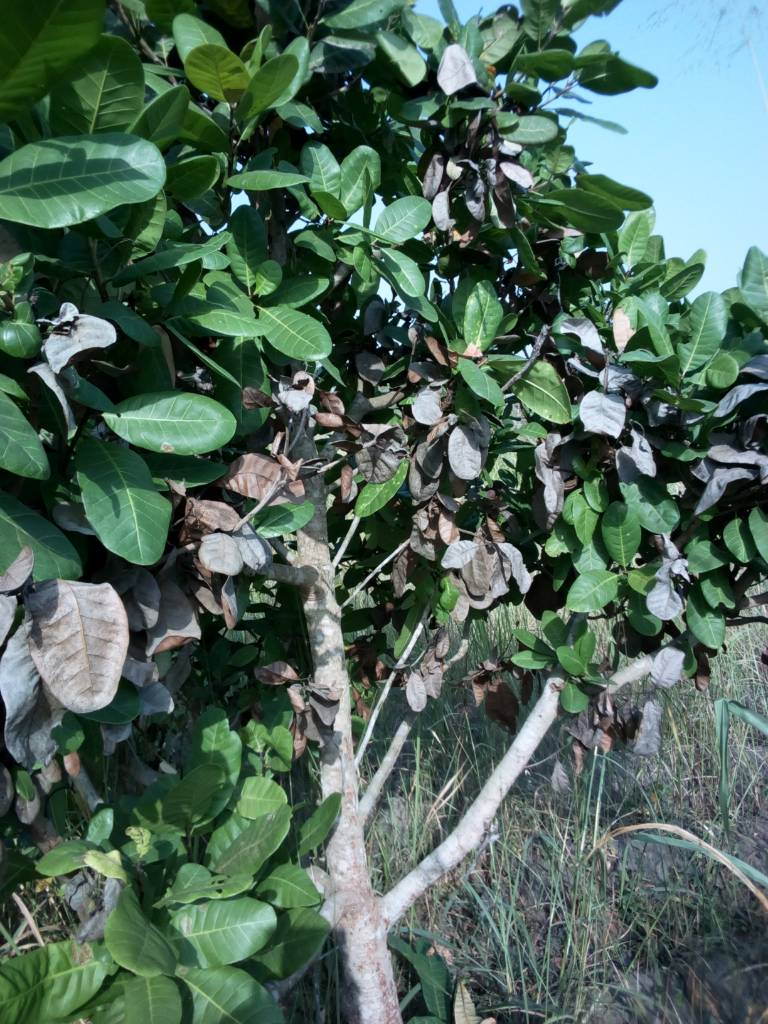Dessèchement des bourgeons: (196, 453, 300, 571), (435, 538, 516, 596), (582, 392, 625, 436)
